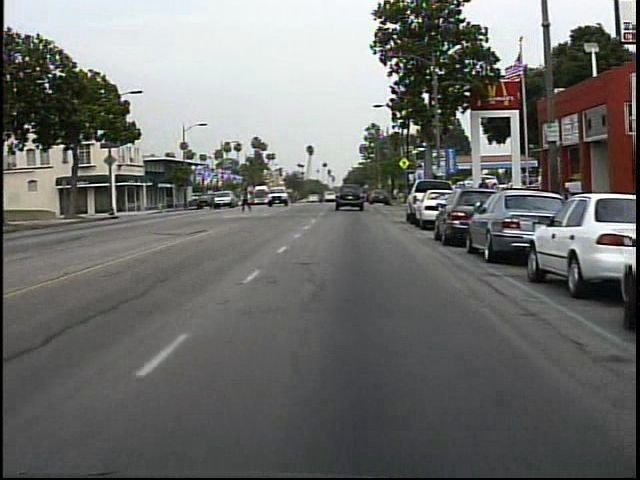person: (473, 174, 494, 217), (239, 182, 257, 215)
